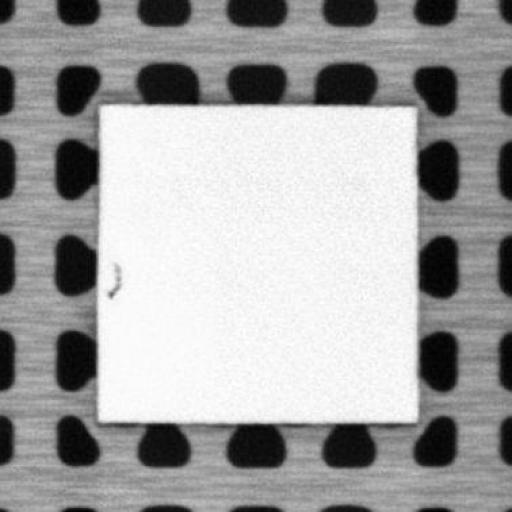DIE_INK: (103, 259, 123, 300)
